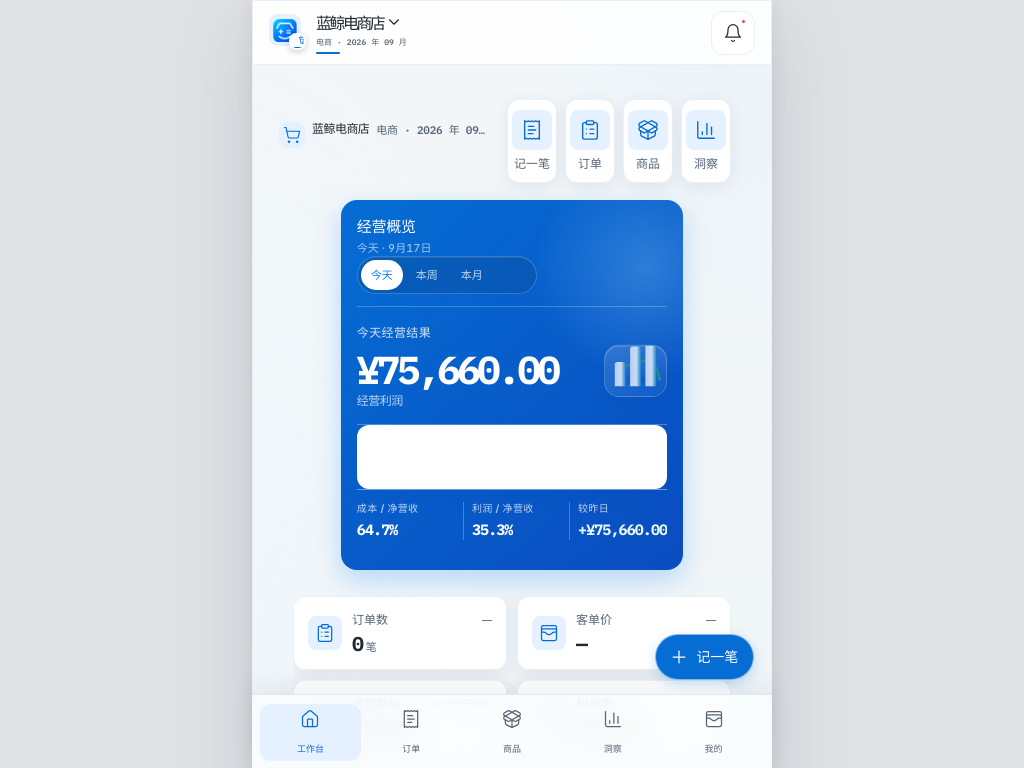
指标单元样式 › 洞察页利润构成与经营概览：金额恒带￥、比率恒带%
The width and height of the screenshot is (1024, 768).
Click the 2nd button "洞察": x=613, y=732 [562,704,663,761]
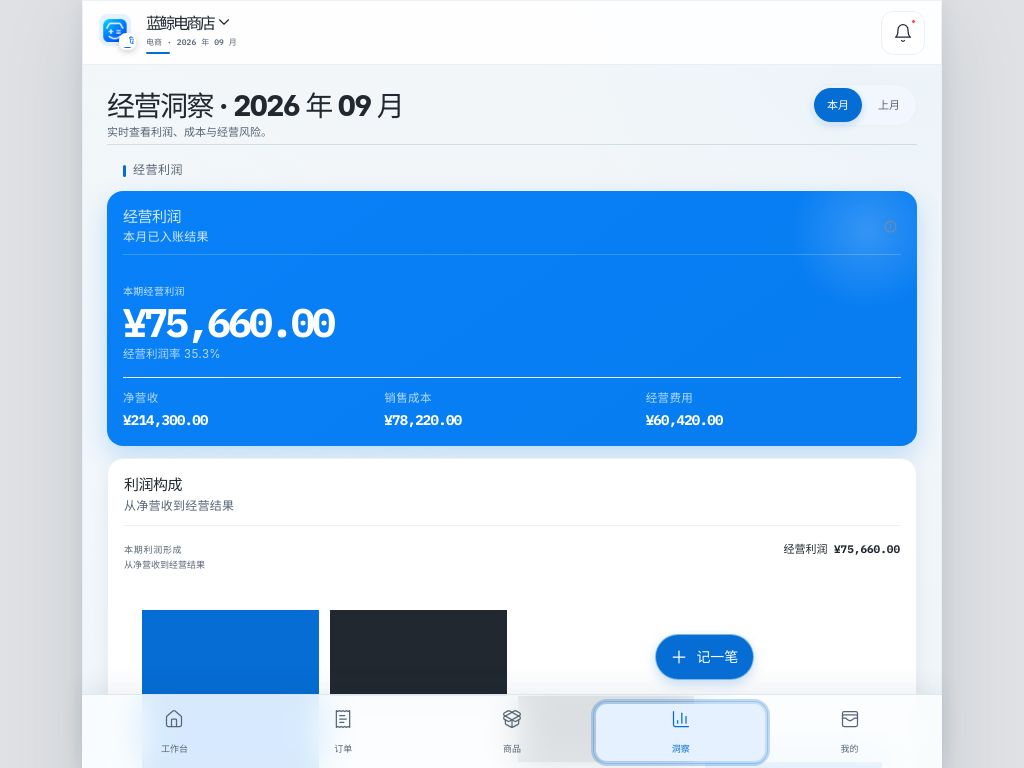
Expected: the text "经营利润率 35.3%" is shown, [123,347,220,361]
